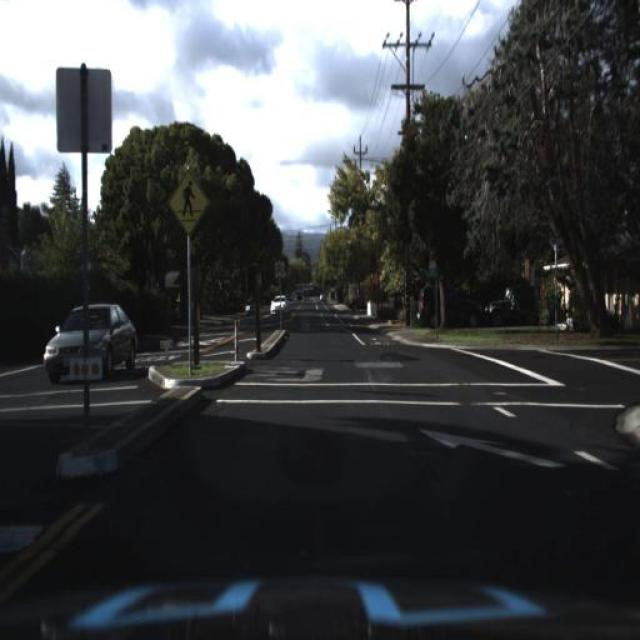car: (38, 300, 140, 386), (419, 284, 476, 332), (482, 275, 536, 325), (343, 286, 371, 316), (265, 293, 294, 317)
